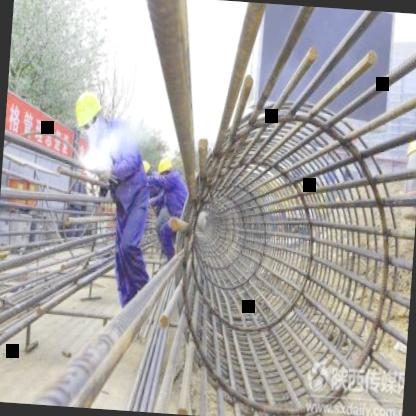helmet: (72, 88, 106, 136), (156, 156, 174, 186)
